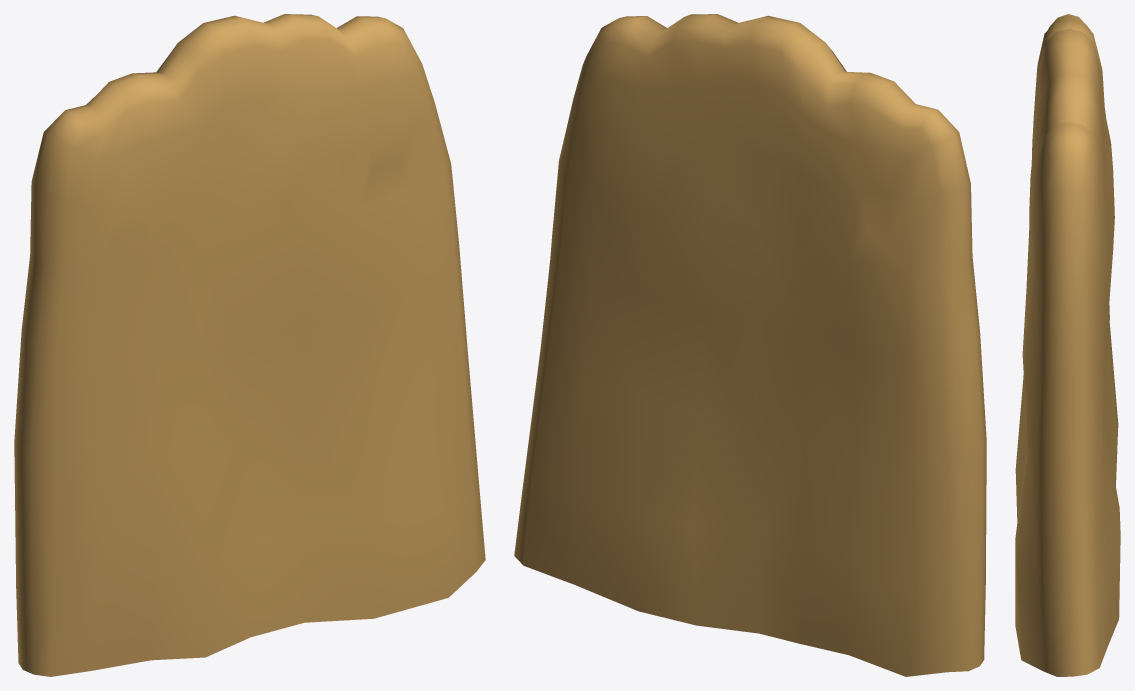
The model's file is Mode_MursFinsForet.fbx.
3 renders of one model, left to right at view 1: azimuth 30°, elevation 25°; view 2: azimuth 150°, elevation 25°; view 3: azimuth 270°, elevation 25°, orthographic. The views are drawn at different scales.
Visible parts, largest first — view 1: Mur_Fin_haut; view 2: Mur_Fin_haut; view 3: Mur_Fin_haut.
Part boxes in pixels (box(x1,y1,x2,y2)): Mur_Fin_haut: box(14, 14, 485, 676); Mur_Fin_haut: box(514, 14, 986, 676); Mur_Fin_haut: box(1015, 14, 1120, 676).
Size of the model in its own units: 3239 by 4030 by 714.
